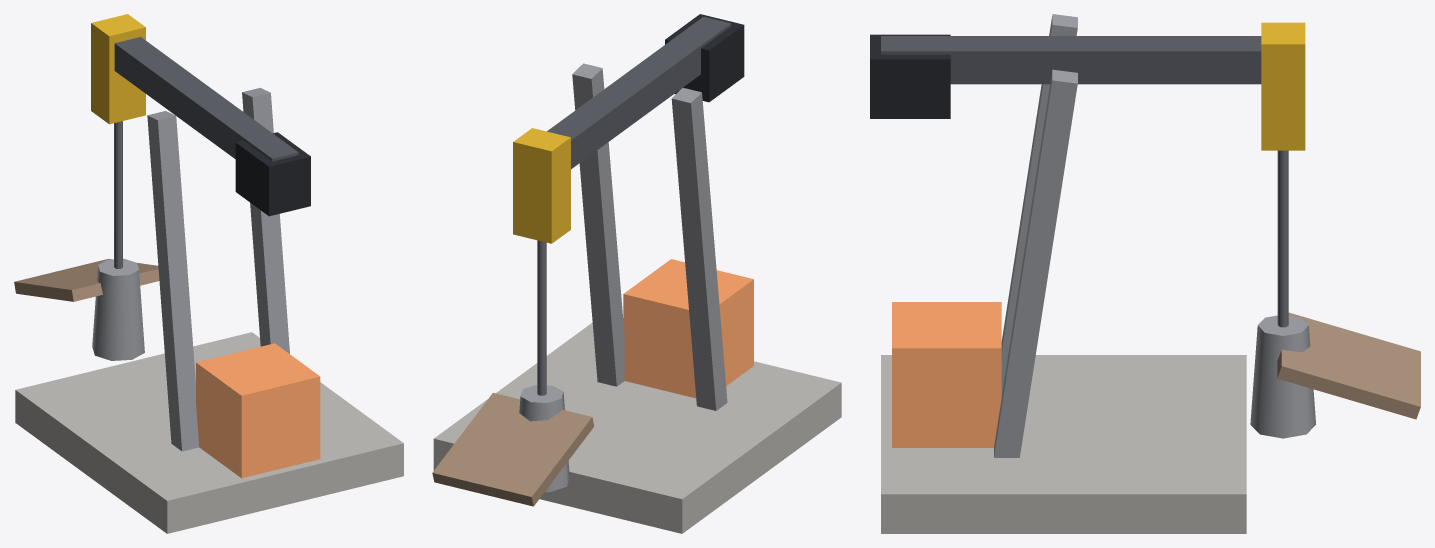
The model's file is build_oil_pump.glb.
3 views of the same model, side by side, from view 1: azimuth 30°, elevation 25°; view 2: azimuth 150°, elevation 25°; view 3: azimuth 270°, elevation 25° (orthographic). The views are drawn at different scales.
Visible parts, largest first — view 1: Baked, _MeshInstance3D_773, _MeshInstance3D_775, _MeshInstance3D_774; view 2: Baked, _MeshInstance3D_773, _MeshInstance3D_774, _MeshInstance3D_775; view 3: Baked, _MeshInstance3D_773, _MeshInstance3D_774, _MeshInstance3D_775.
Boxes of the visible parts, bbox=[...] form: Baked: bbox=[14, 87, 403, 533]; _MeshInstance3D_773: bbox=[114, 37, 298, 161]; _MeshInstance3D_775: bbox=[235, 132, 310, 216]; _MeshInstance3D_774: bbox=[91, 14, 145, 124]; Baked: bbox=[432, 63, 841, 533]; _MeshInstance3D_773: bbox=[547, 16, 731, 169]; _MeshInstance3D_774: bbox=[513, 128, 570, 243]; _MeshInstance3D_775: bbox=[665, 14, 744, 102]; Baked: bbox=[881, 14, 1420, 533]; _MeshInstance3D_773: bbox=[881, 36, 1261, 84]; _MeshInstance3D_774: bbox=[1261, 22, 1305, 150]; _MeshInstance3D_775: bbox=[870, 34, 950, 118].
Bounding box in the file's own units: 0.9 × 1.3 × 1.51.
